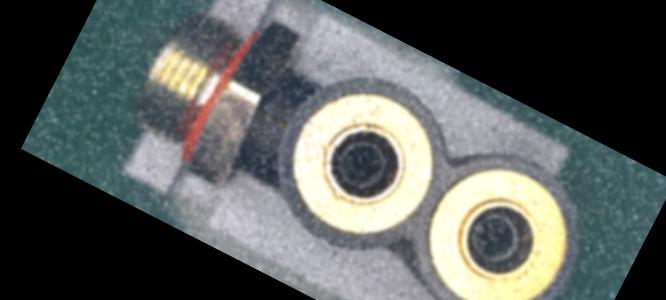craze: (254, 104, 290, 130)
